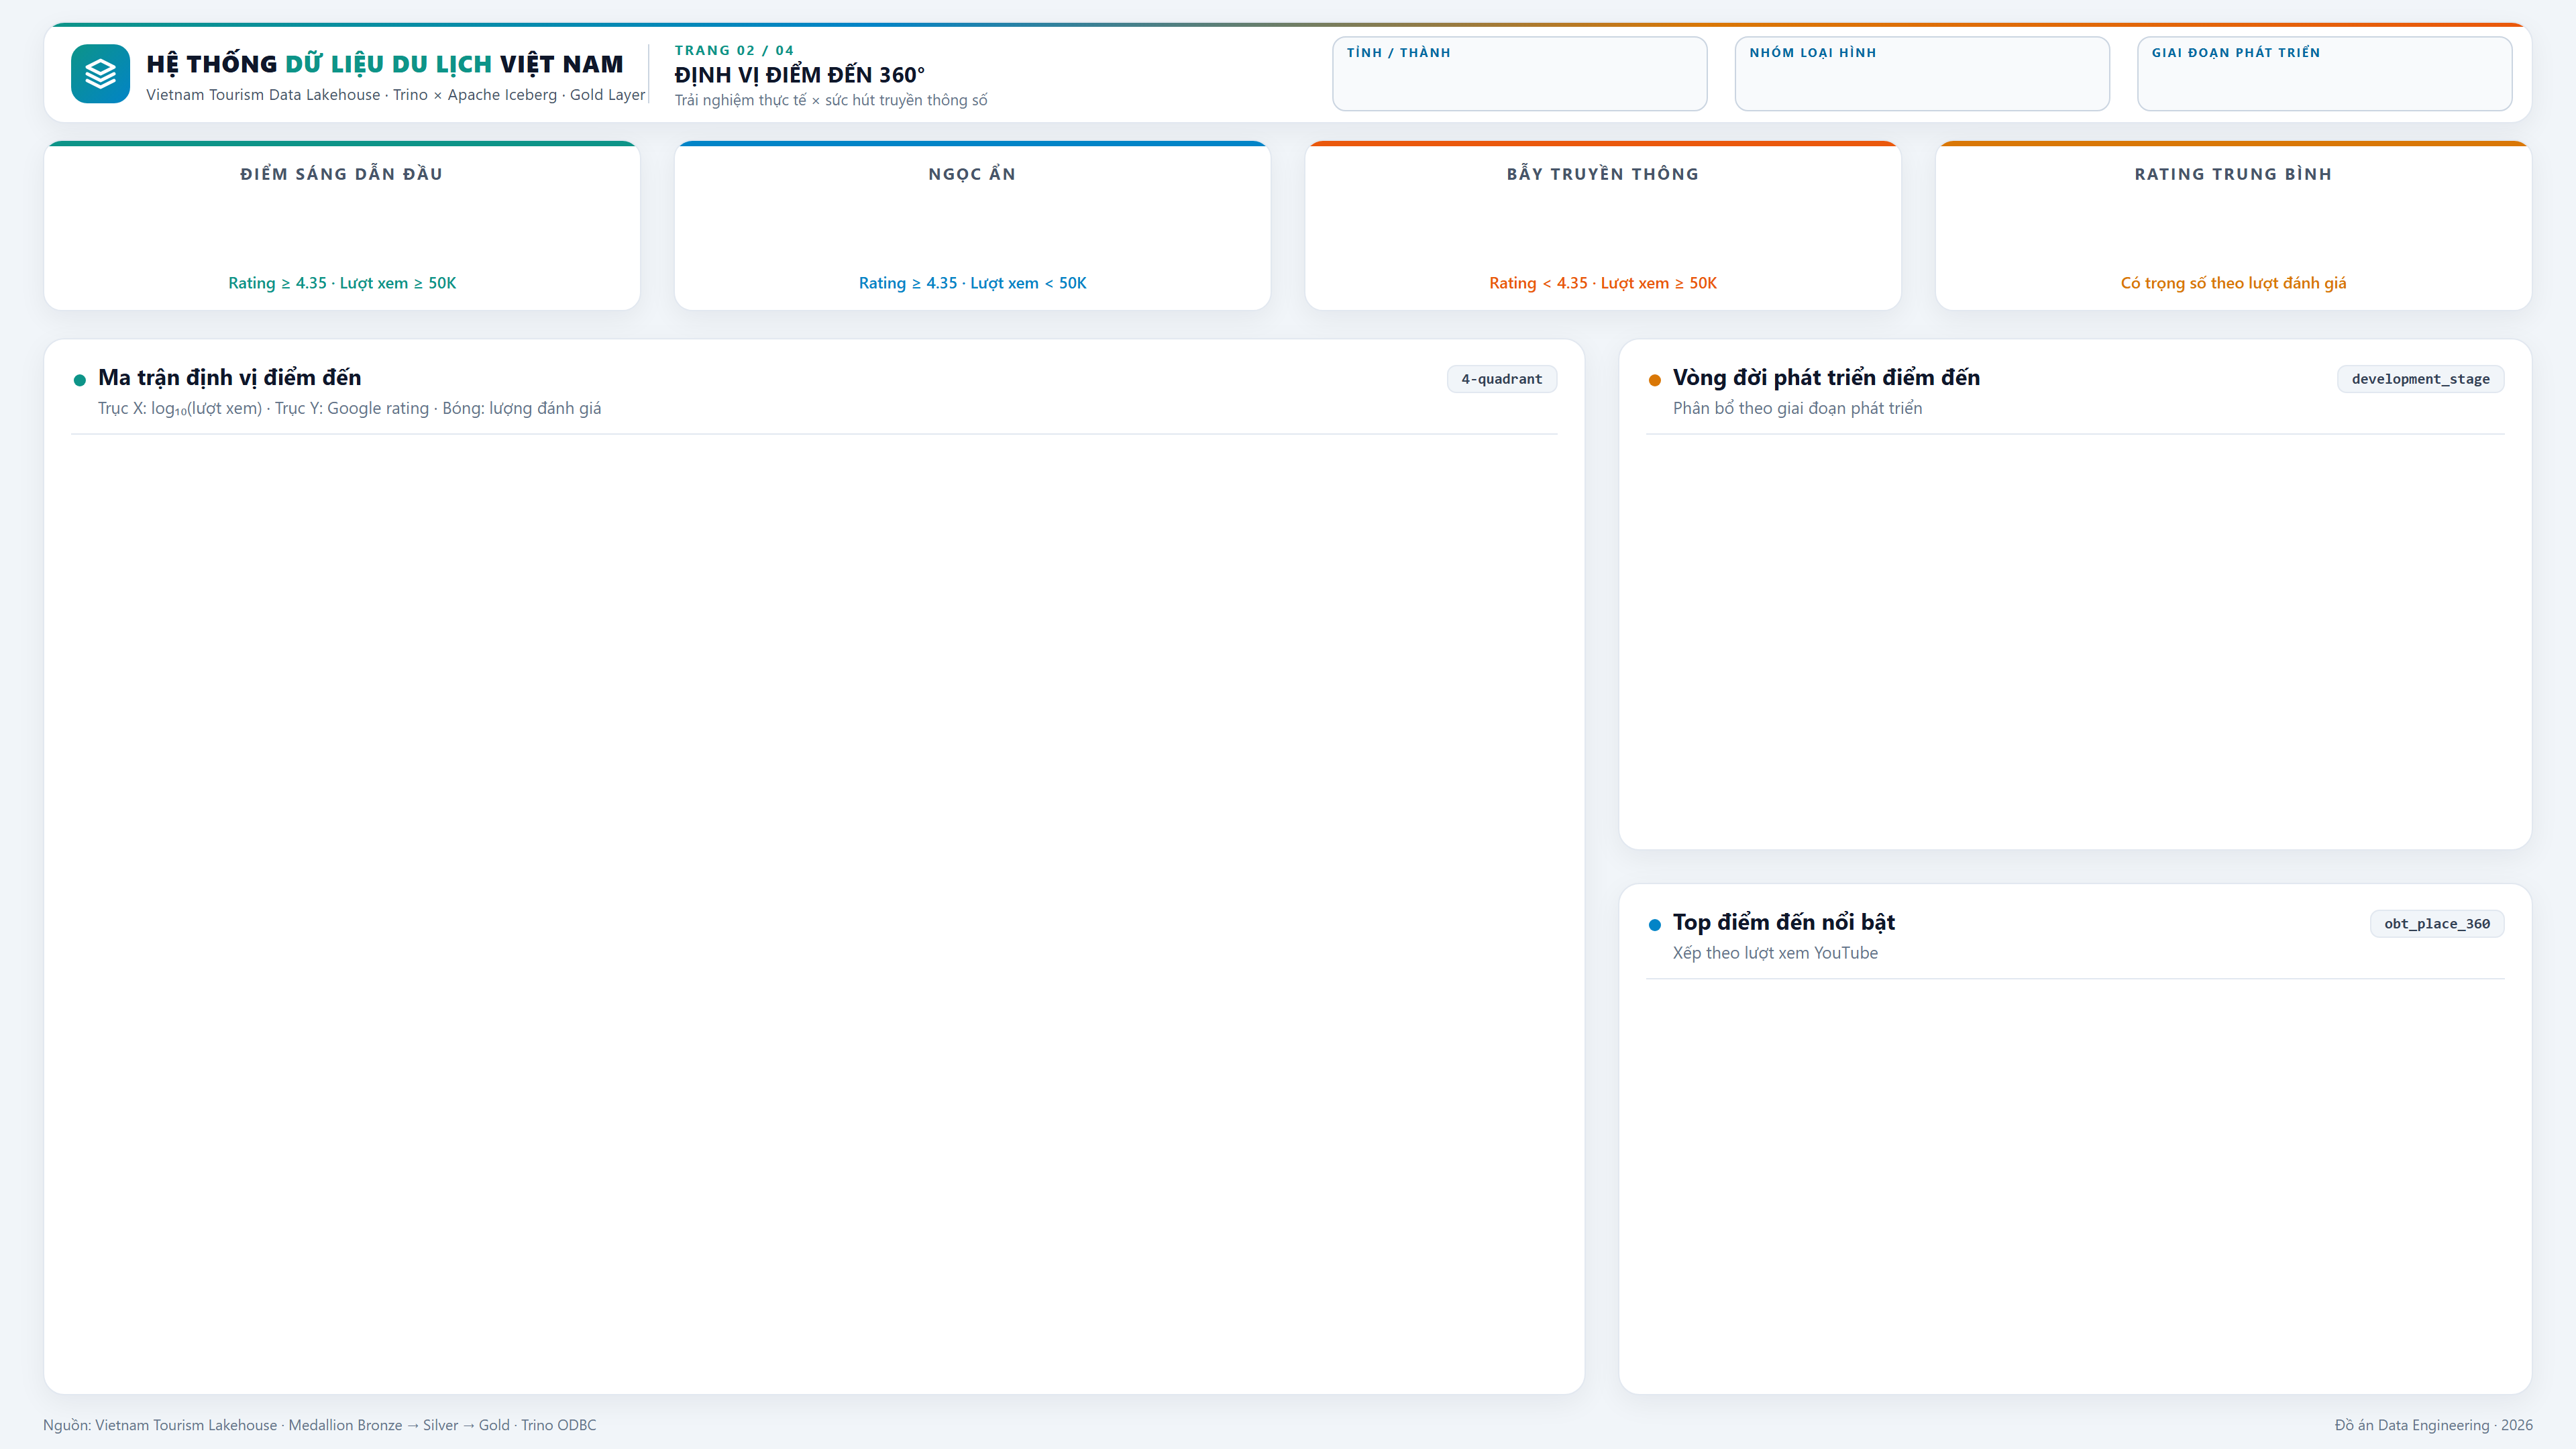

The page's visual inventory and layout, read from the dashboard file:
{"tool":"powerbi","page":{"name":"Destination 360°","canvas":[1920,1080],"ordinal":1},"visuals":[{"type":"textbox","box":[10,0,544,280],"z":0}]}

Visuals, with their boxes in screenshot pixels (x1, y1, x2, y2), scaled from the page's 1920x1080 canvas onto the 2576x1449 screenshot:
textbox: locate(13, 0, 743, 376)
